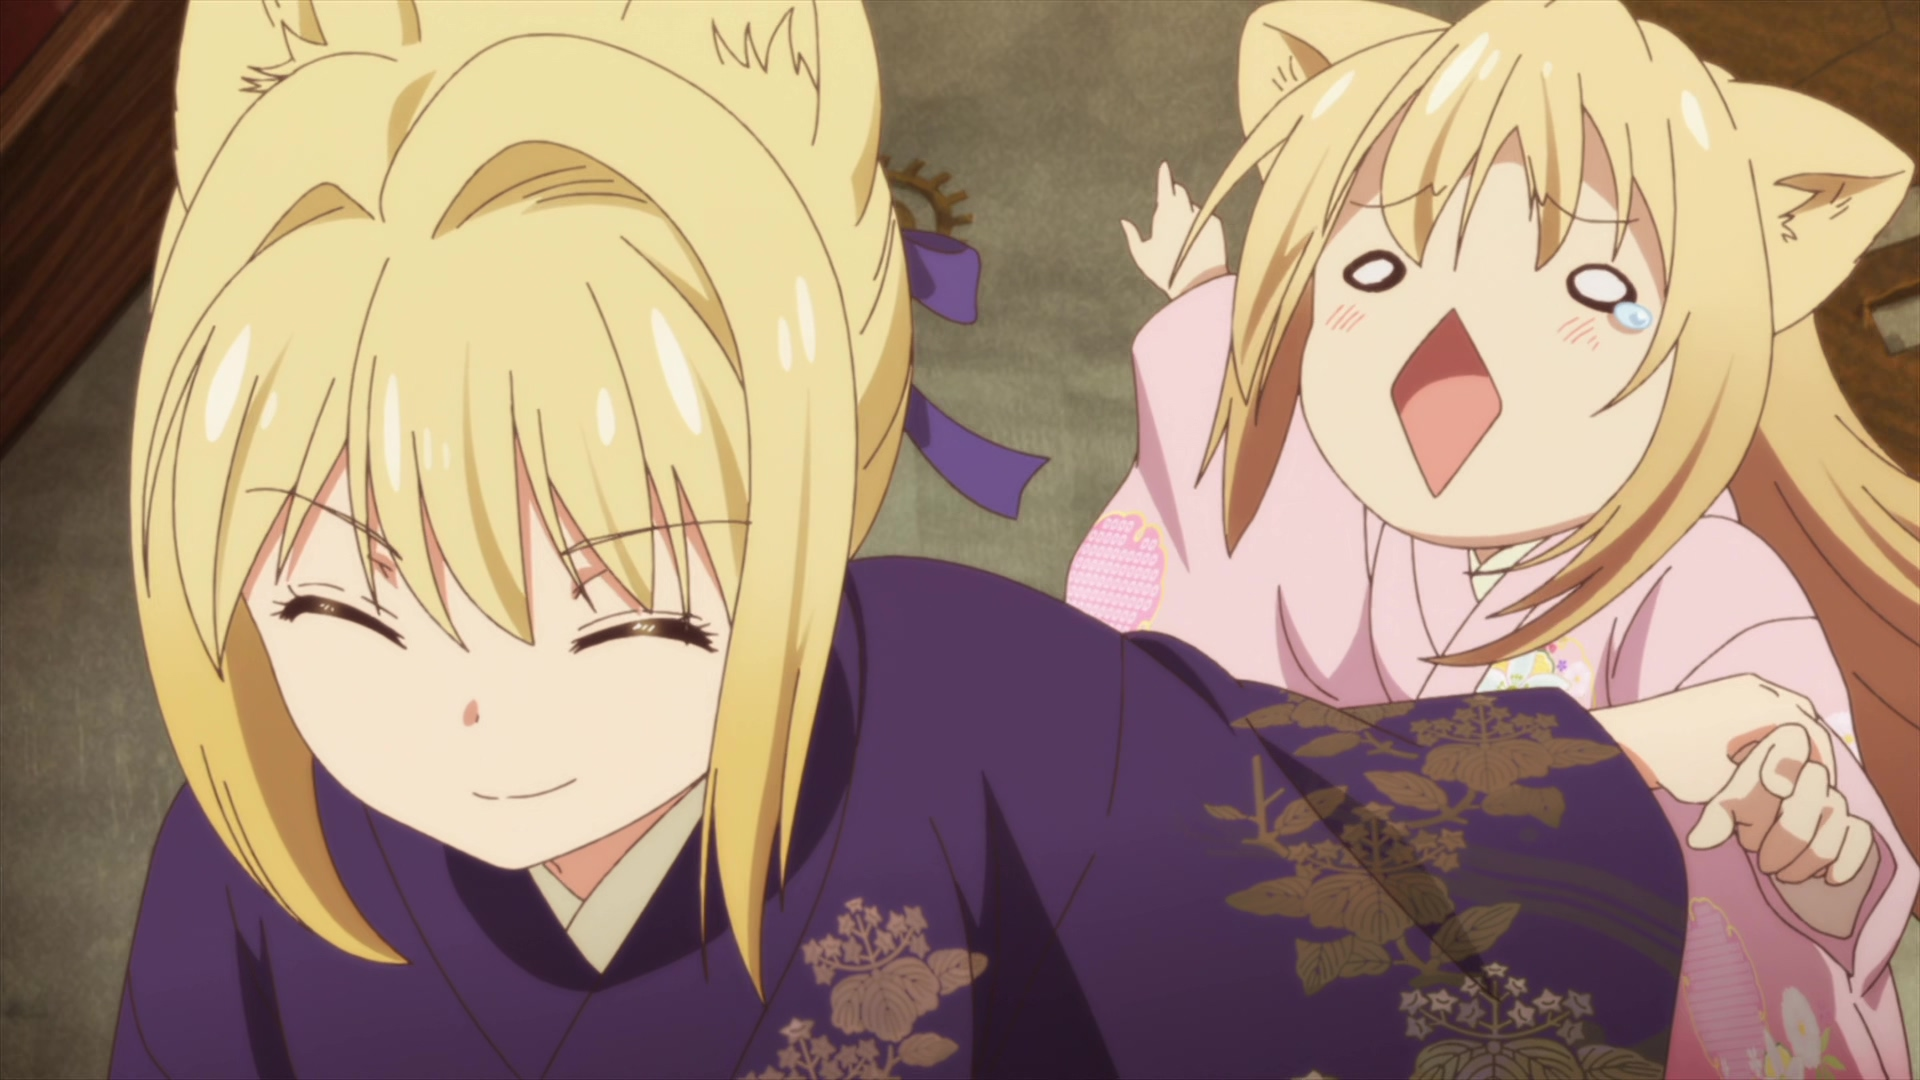柚: (1064, 1, 1920, 1080)
桐: (108, 1, 1836, 1080)
